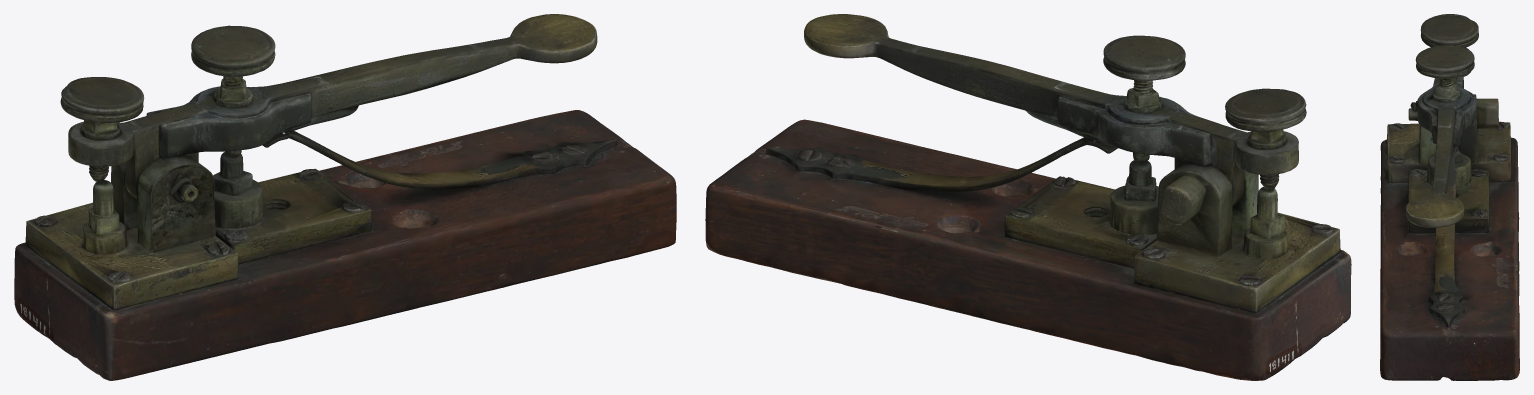
File: telegraph.glb
3 renders of one model, left to right at view 1: azimuth 30°, elevation 25°; view 2: azimuth 150°, elevation 25°; view 3: azimuth 270°, elevation 25°, orthographic. The views are drawn at different scales.
Bounding box in the file's own units: 169 × 76.53 × 50.83.
1 material, 1 textured.
